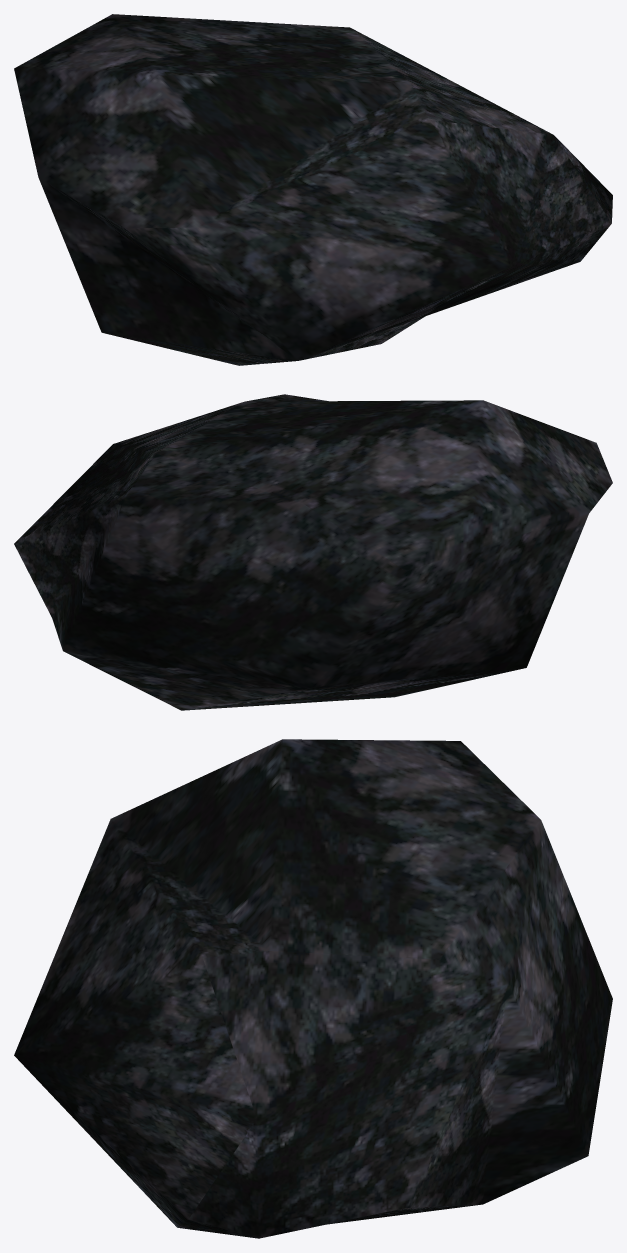
Rendered from asteroid_obsidian_radial_s03_l2.fbx.
3 views of the same model, one above another, from view 1: azimuth 30°, elevation 25°; view 2: azimuth 150°, elevation 25°; view 3: azimuth 270°, elevation 25° (orthographic). The views are drawn at different scales.
Visible parts, largest first — view 1: mesh_node; view 2: mesh_node; view 3: mesh_node.
Boxes of the visible parts, box(x1,y1,x2,y2) form: mesh_node: box(14, 14, 612, 365); mesh_node: box(14, 394, 612, 710); mesh_node: box(14, 739, 612, 1238).
Size of the model in its own units: 5.98 by 3.24 by 4.88.
Materials: 1 (1 with a texture image).
